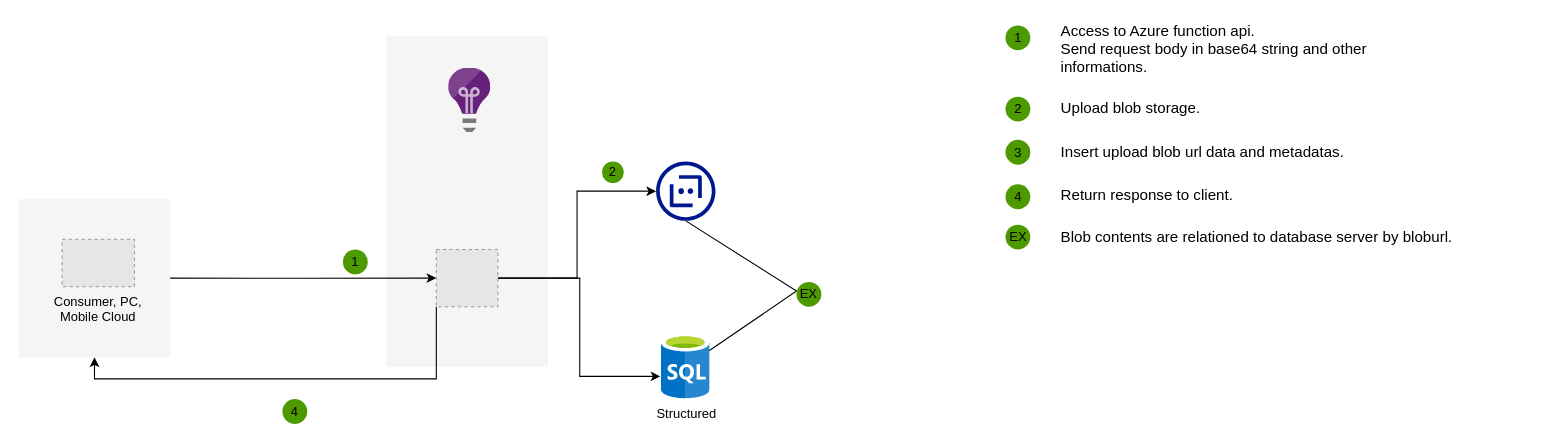
The diagram is 1563 pixels wide and 443 high, and some of its shapes have lost their labels. Grey dashed boxes stand in for pictures. Here are the shapes that lost their labels. From the top down, the box of each, then its label:
(448, 68, 490, 132): Azure App Insights
(656, 161, 715, 220): Bot Service
